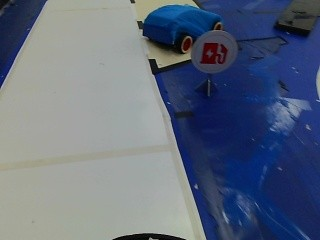battery: (193, 34, 235, 72)
car: (140, 5, 225, 50)
